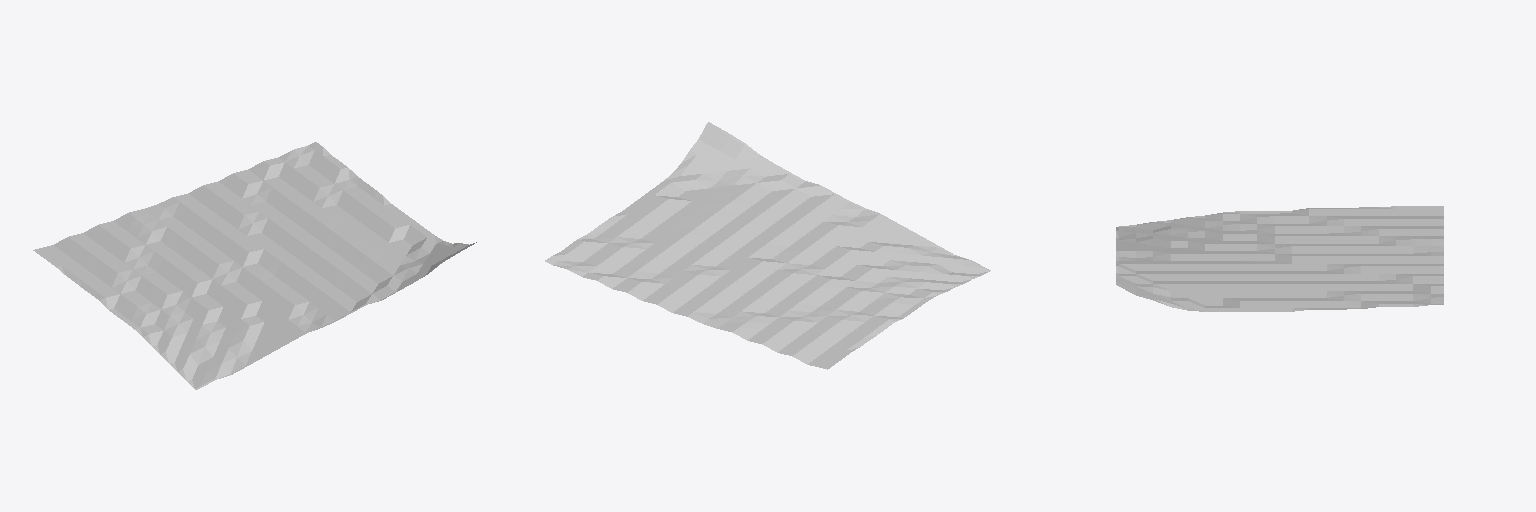
File: terrain_4_-21.obj
3 renders of one model, left to right at view 1: azimuth 30°, elevation 25°; view 2: azimuth 150°, elevation 25°; view 3: azimuth 270°, elevation 25°, orthographic.
Visible parts, largest first — view 1: terrain_4_-21_Plane.046; view 2: terrain_4_-21_Plane.046; view 3: terrain_4_-21_Plane.046.
Boxes of the visible parts, box(x1,y1,x2,y2) form: terrain_4_-21_Plane.046: box(33, 142, 476, 389); terrain_4_-21_Plane.046: box(545, 122, 990, 369); terrain_4_-21_Plane.046: box(1116, 206, 1443, 311).
Size of the model in its own units: 32 by 8.63 by 32.